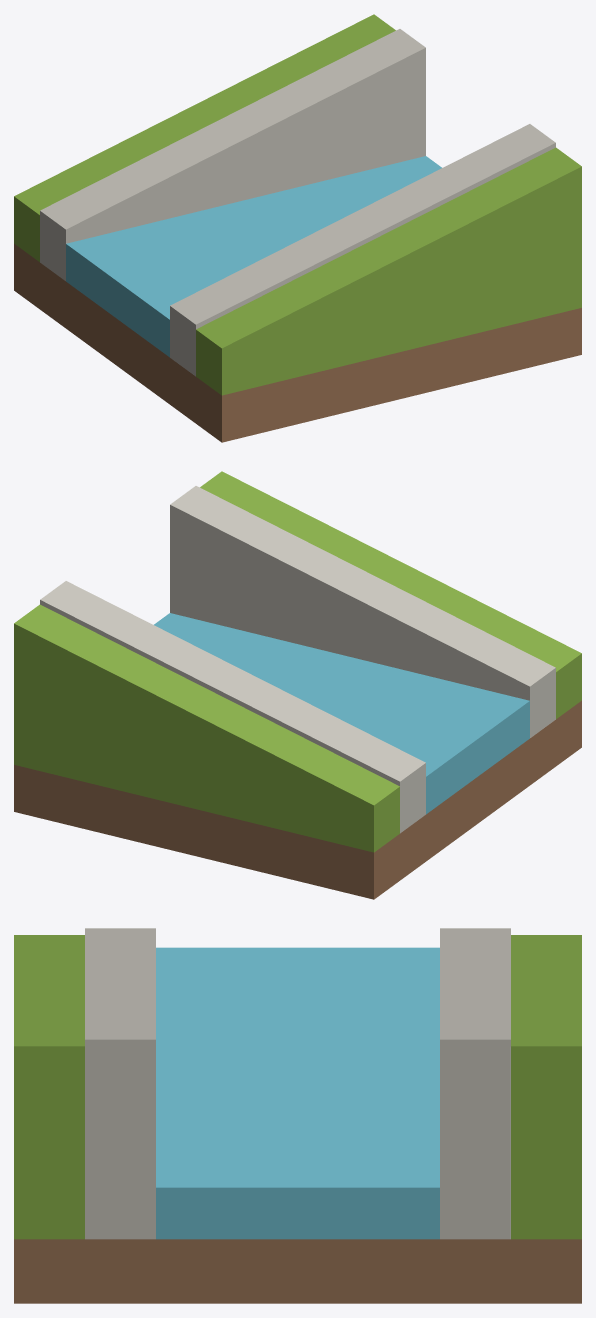
File: canal-hill-water-low.obj
3 renders of one model, top to bottom at view 1: azimuth 30°, elevation 25°; view 2: azimuth 150°, elevation 25°; view 3: azimuth 270°, elevation 25°, orthographic. The views are drawn at different scales.
Parts seen in each view (by area): view 1: canal-hill-water-low_Cube.253; view 2: canal-hill-water-low_Cube.253; view 3: canal-hill-water-low_Cube.253.
Part boxes in pixels (left/top/right/bottom): canal-hill-water-low_Cube.253: left=14, top=14, right=581, bottom=442; canal-hill-water-low_Cube.253: left=14, top=471, right=581, bottom=899; canal-hill-water-low_Cube.253: left=14, top=928, right=581, bottom=1303.
Bounding box in the file's own units: 8 × 4.1 × 8.
1 material, 1 textured.
